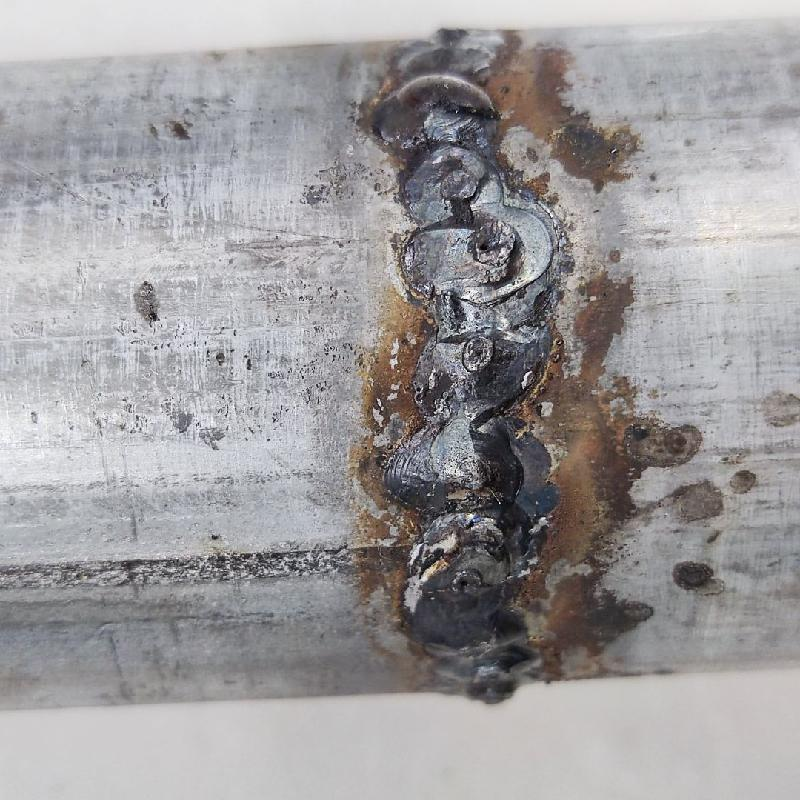Weld: (371, 68, 498, 144)
wrong_size: (388, 143, 558, 698)
